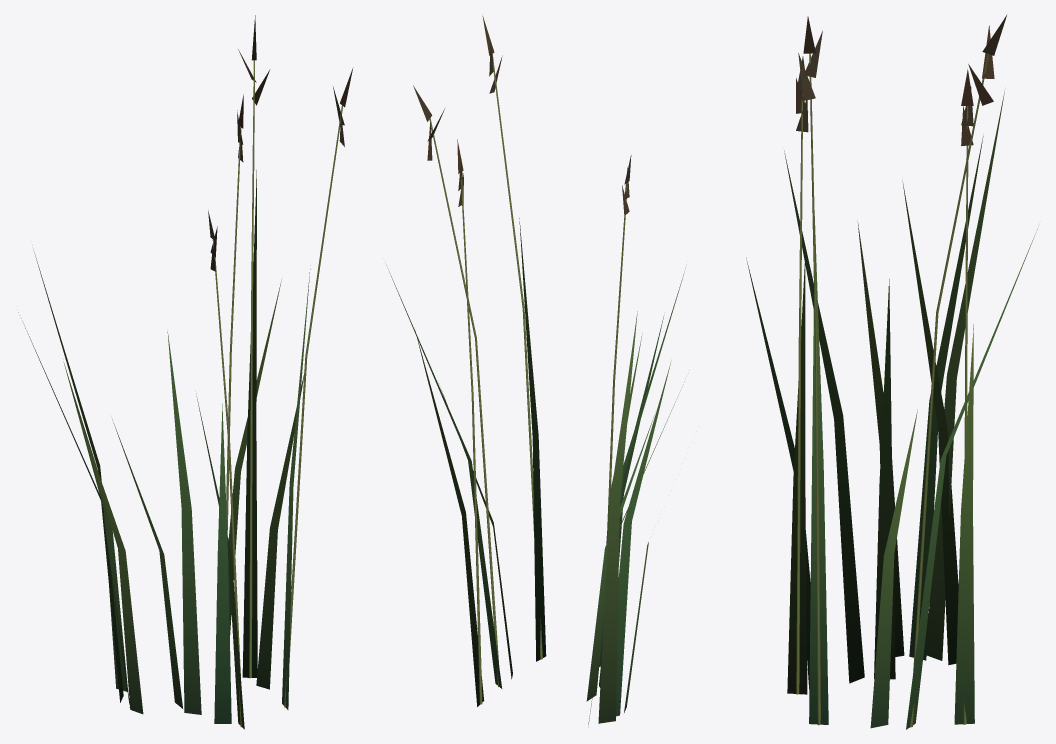
The model's file is sedge-a.lod1.glb.
The picture shows the model from 3 angles, left to right: view 1: azimuth 30°, elevation 25°; view 2: azimuth 150°, elevation 25°; view 3: azimuth 270°, elevation 25°; orthographic projection. The views are drawn at different scales.
Parts seen in each view (by area): view 1: sedge-a.lod1; view 2: sedge-a.lod1; view 3: sedge-a.lod1.
Boxes of the visible parts, x1=… form: sedge-a.lod1: x1=18, y1=15, x2=353, y2=729; sedge-a.lod1: x1=386, y1=16, x2=685, y2=727; sedge-a.lod1: x1=746, y1=14, x2=1037, y2=729.
Size of the model in its own units: 0.3461 by 0.7798 by 0.2805.
